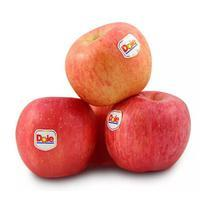apple: (63, 22, 153, 108), (103, 92, 191, 175), (16, 98, 100, 180)
